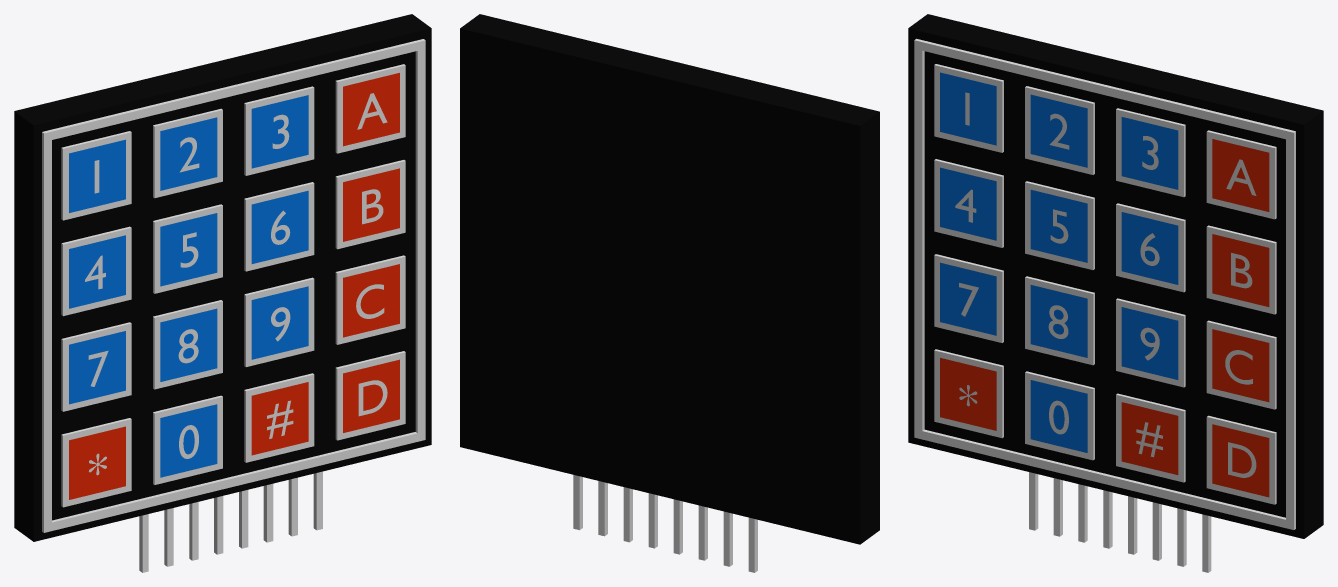
Rendered from 4x4Keypad.glb.
3 views of the same model, side by side, from view 1: azimuth 30°, elevation 25°; view 2: azimuth 150°, elevation 25°; view 3: azimuth 330°, elevation 25° (orthographic).
Visible parts, largest first — view 1: 4x4 Keypad; view 2: 4x4 Keypad; view 3: 4x4 Keypad.
Boxes of the visible parts, left/top/right/bottom form: 4x4 Keypad: left=14, top=14, right=431, bottom=572; 4x4 Keypad: left=460, top=14, right=879, bottom=572; 4x4 Keypad: left=908, top=14, right=1323, bottom=572.
Bounding box in the file's own units: 1.04 × 1.2 × 0.098.
